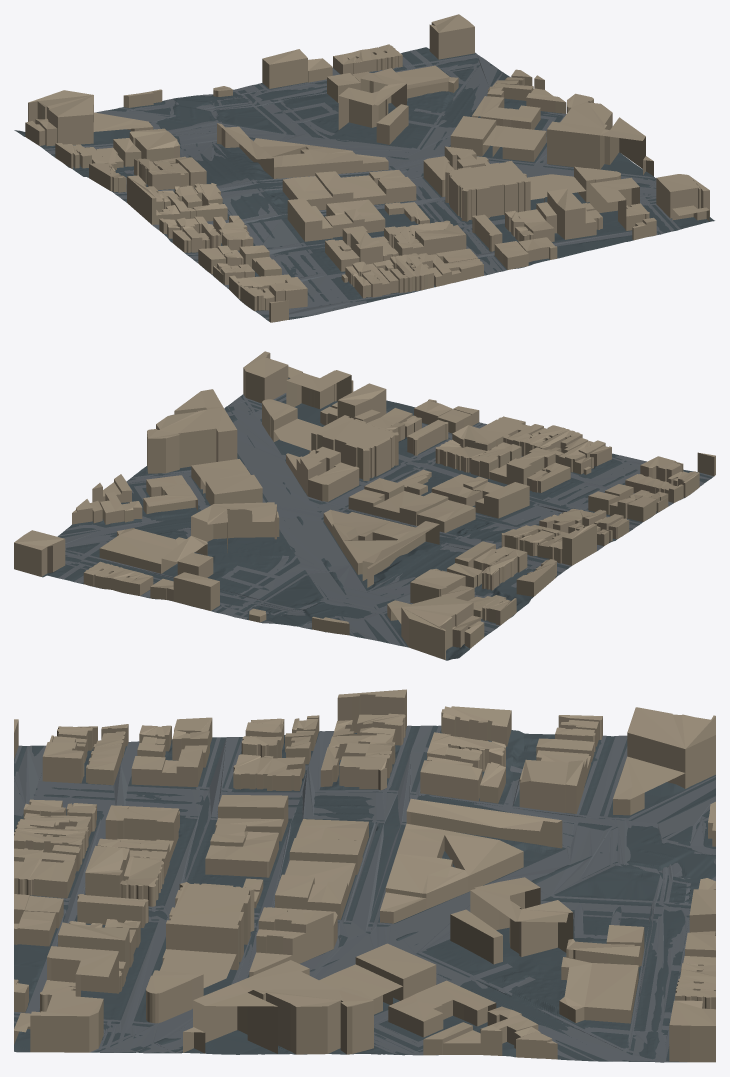
File: epsg26910-1434-10887.lod0.glb
3 views of the same model, one above another, from view 1: azimuth 30°, elevation 25°; view 2: azimuth 150°, elevation 25°; view 3: azimuth 270°, elevation 25° (orthographic). The views are drawn at different scales.
Visible parts, largest first — view 1: epsg26910-1434-10887-lod0; view 2: epsg26910-1434-10887-lod0; view 3: epsg26910-1434-10887-lod0.
Part boxes in pixels (x1,y1,x2,y2): epsg26910-1434-10887-lod0: (14,14,714,322); epsg26910-1434-10887-lod0: (14,351,715,660); epsg26910-1434-10887-lod0: (14,689,715,1062).
Size of the model in its own units: 384 by 47.11 by 384.
